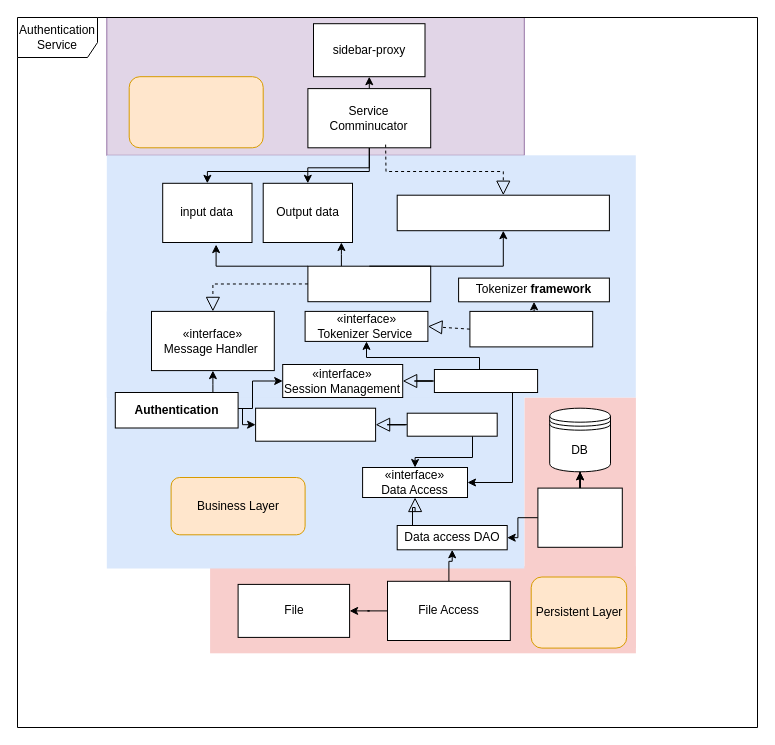
Some shapes in this 775 by 745 pixel diagram are drawn without their labels. Each missing label, with the centre of its shape:
"Database Access" belongs at point 579,517.
"Message Handler" belongs at point 369,283.
"Presentation Layer" belongs at point 195,112.
"Session manager" belongs at point 485,380.
"Tokenizer Services" belongs at point 531,328.
"User manager" belongs at point 451,424.
"«interface» Message" belongs at point 502,212.
"«interface» User Management" belongs at point 315,424.
